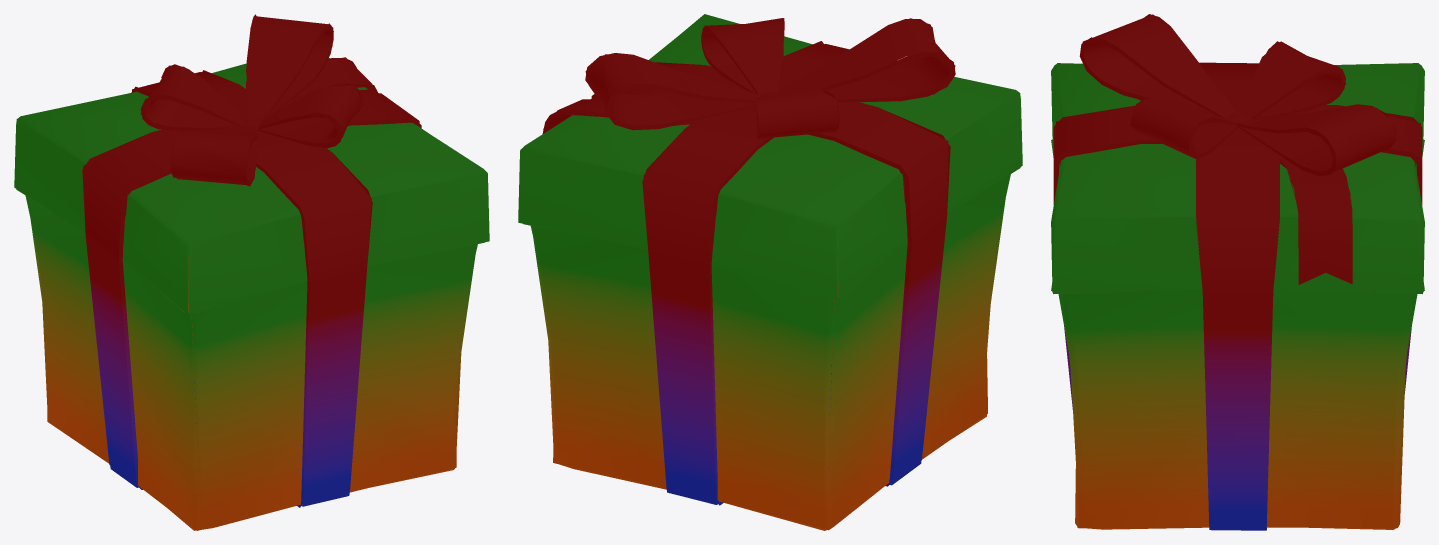
Rendered from gift.glb.
3 views of the same model, side by side, from view 1: azimuth 30°, elevation 25°; view 2: azimuth 150°, elevation 25°; view 3: azimuth 270°, elevation 25° (orthographic). The views are drawn at different scales.
Parts seen in each view (by area): view 1: gift; view 2: gift; view 3: gift.
Part boxes in pixels (<box>): gift: <box>14,14,489,530</box>; gift: <box>518,14,1022,530</box>; gift: <box>1051,14,1424,530</box>.
Size of the model in its own units: 0.5366 by 0.6051 by 0.5193.
